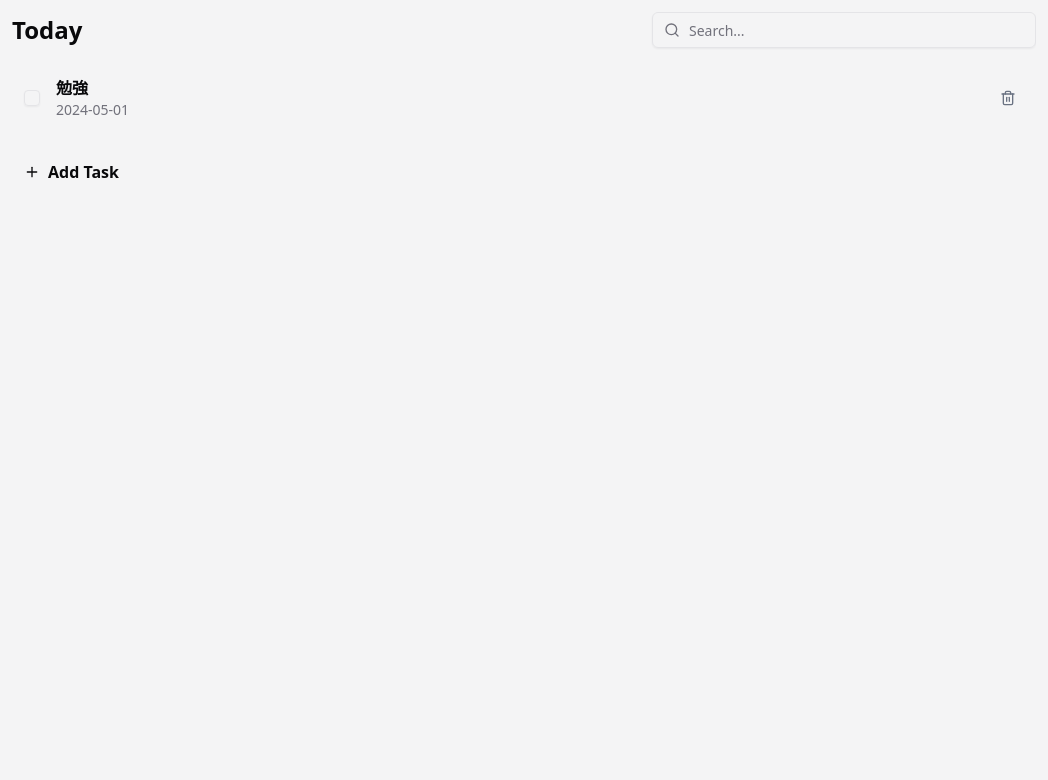
Test: TodoList integration with MSW › タスクを追加するとリストに表示される
Expected: the text "勉強" is shown, x1=56 y1=77 x2=88 y2=99
Click the button "Add Task" at (83, 172), box x1=12 y1=148 x2=1036 y2=196
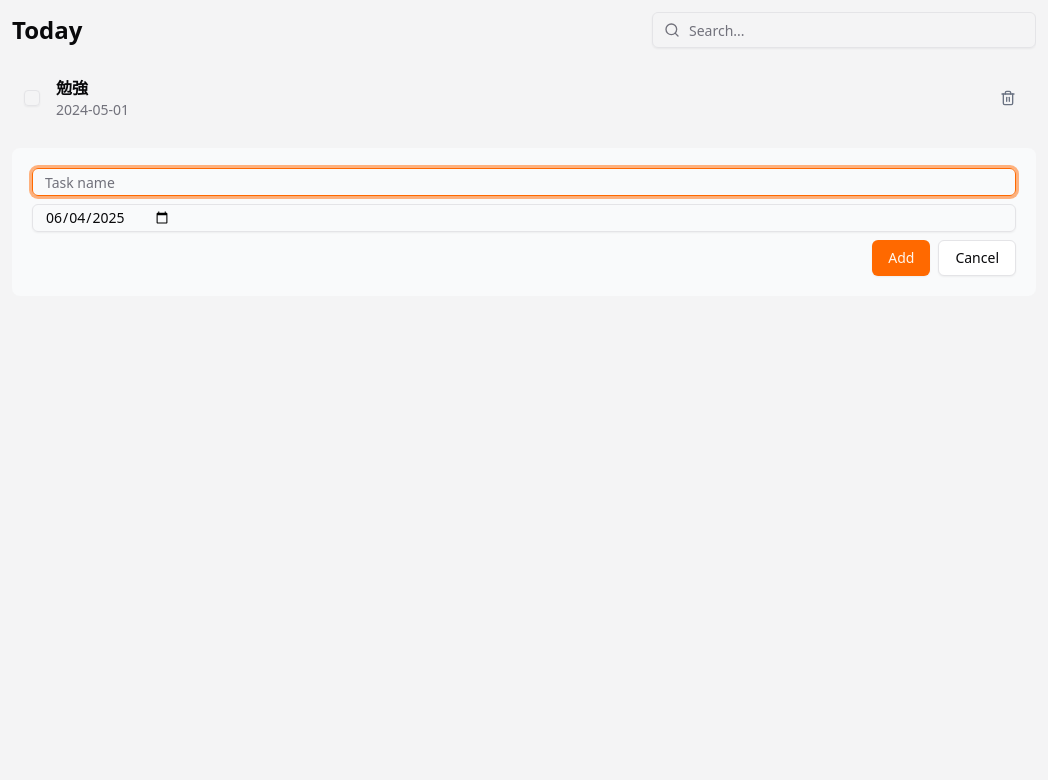
Type "買い物" into the field with placeholder "Task name" at (524, 182), box x1=32 y1=168 x2=1016 y2=196
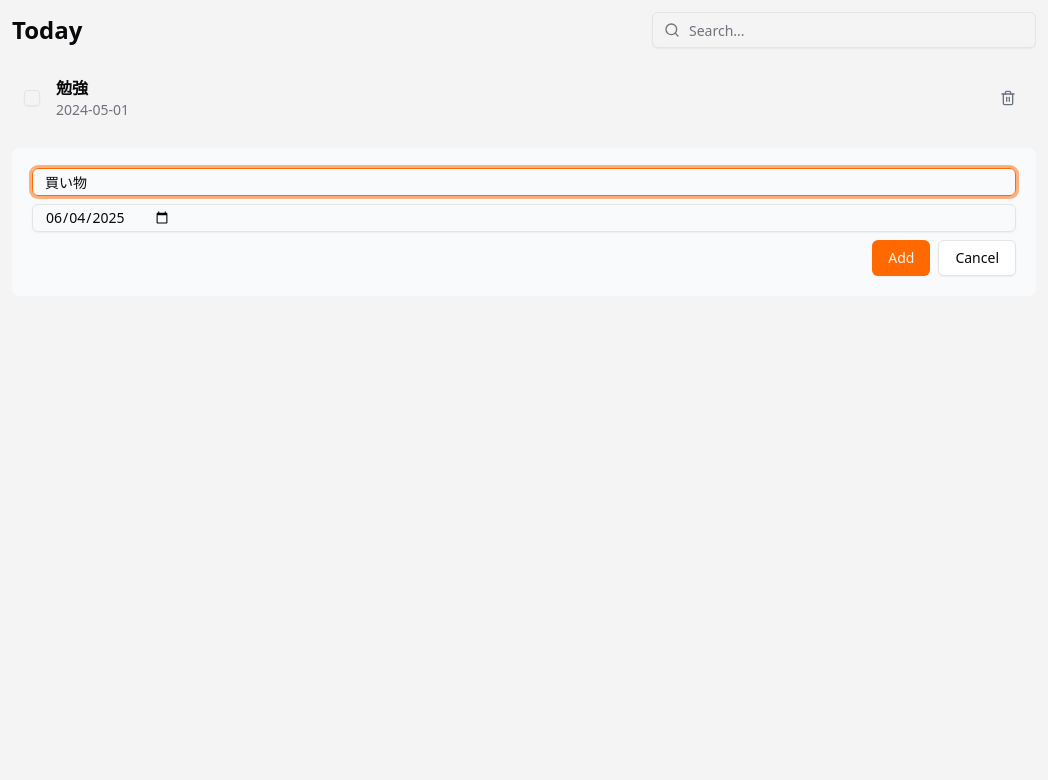
Click the button "Add" at (901, 258), box x1=872 y1=240 x2=930 y2=276
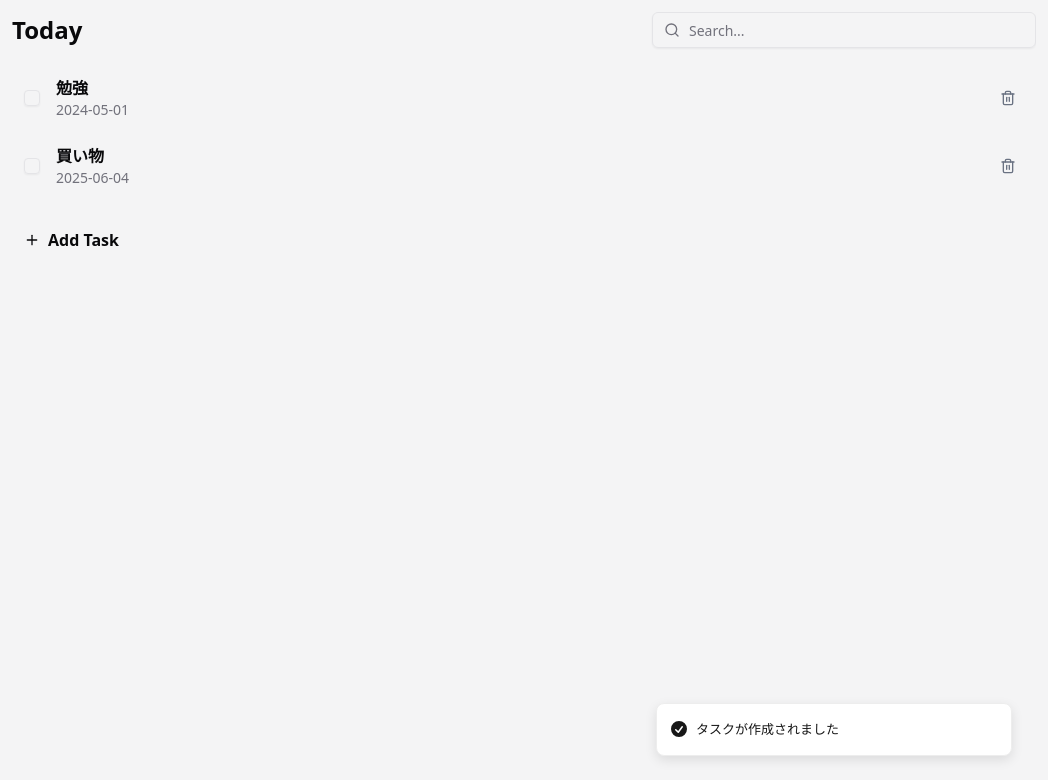
Expected: the text "買い物" is shown, x1=56 y1=145 x2=104 y2=167
